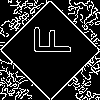F: (25, 25, 71, 56)
